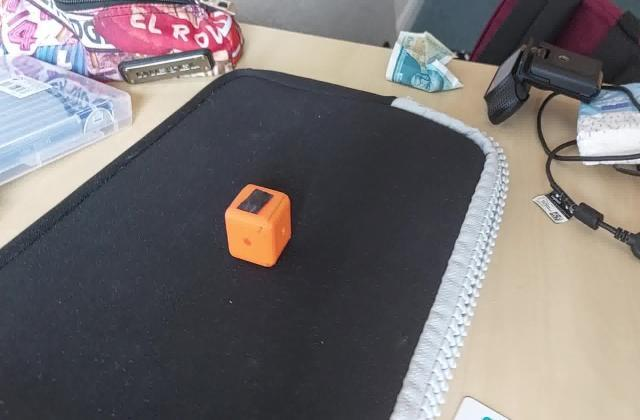black: (237, 189, 276, 215)
cube: (222, 180, 294, 270)
